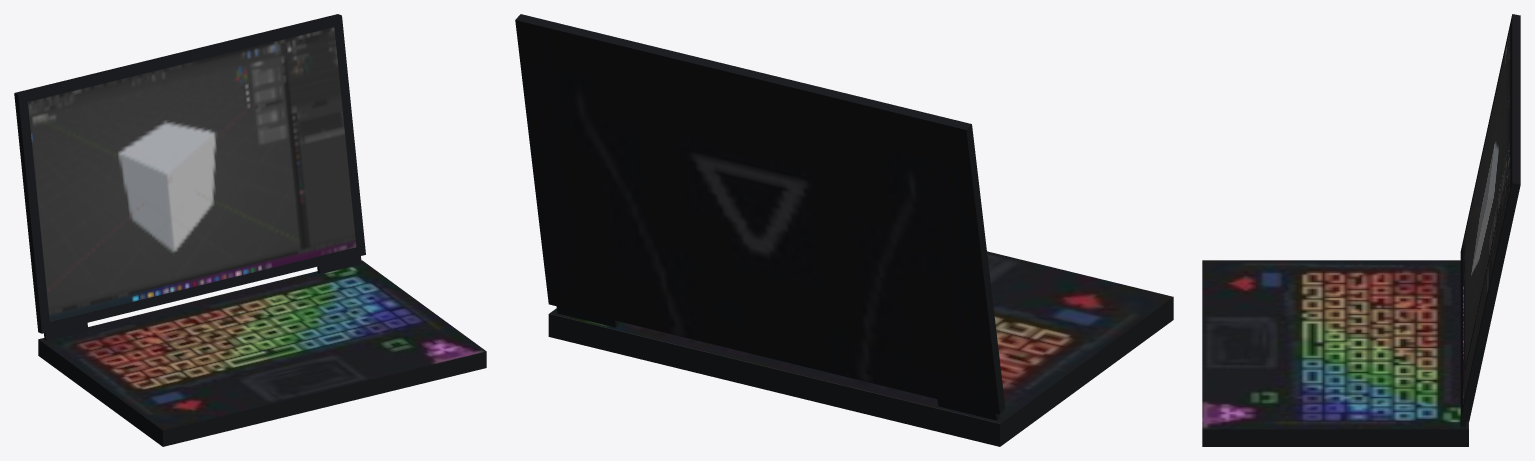
The model's file is Laptops.fbx.
The picture shows the model from 3 angles, left to right: view 1: azimuth 30°, elevation 25°; view 2: azimuth 150°, elevation 25°; view 3: azimuth 270°, elevation 25°; orthographic projection. The views are drawn at different scales.
Visible parts, largest first — view 1: Laptop 1; view 2: Laptop 1; view 3: Laptop 1.
Part boxes in pixels (<box>): Laptop 1: <box>14,14,486,446</box>; Laptop 1: <box>515,14,1173,446</box>; Laptop 1: <box>1202,14,1520,446</box>.
Bounding box in the file's own units: 150 × 109 × 119.
